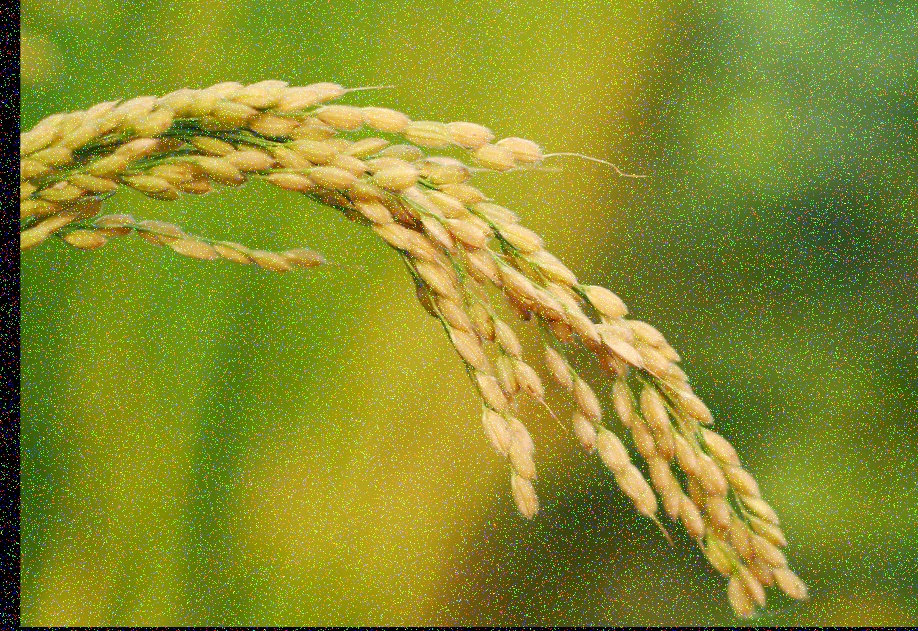rice: (21, 45, 824, 618)
